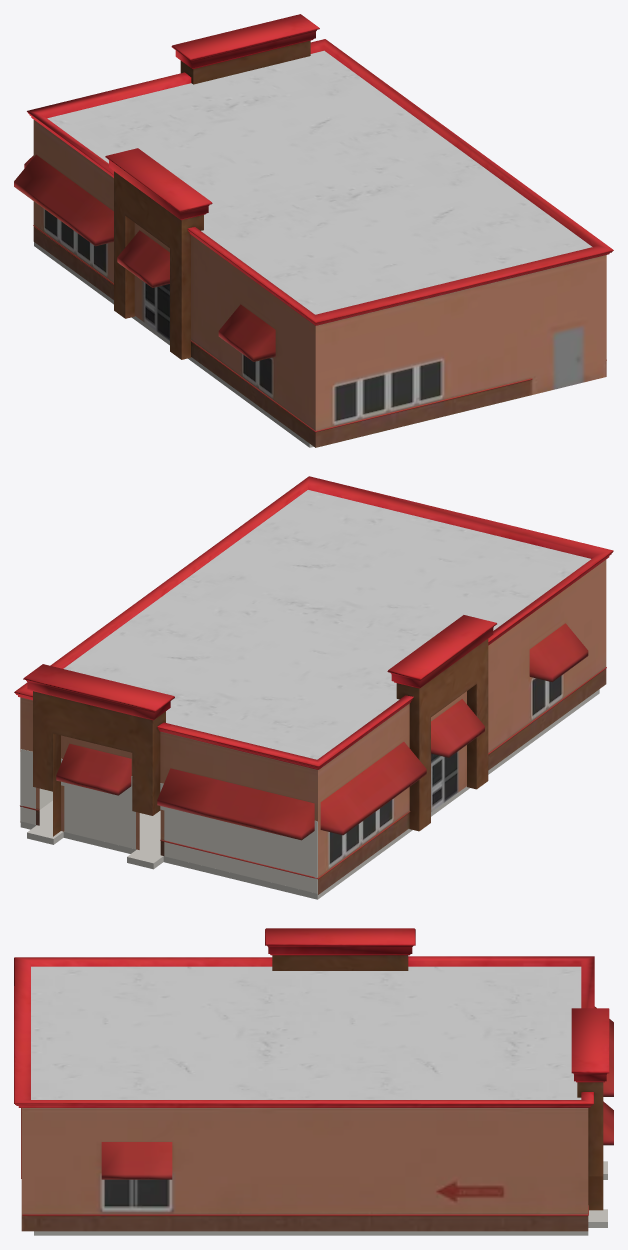
Rendered from burger-joint.zfix-v3.lod0.glb.
3 views of the same model, one above another, from view 1: azimuth 30°, elevation 25°; view 2: azimuth 150°, elevation 25°; view 3: azimuth 270°, elevation 25° (orthographic). The views are drawn at different scales.
Parts seen in each view (by area): view 1: Object_2, Walkable floors and stairs; view 2: Object_2, Walkable floors and stairs (×2); view 3: Object_2, Walkable floors and stairs.
Boxes of the visible parts, box(x1,y1,x2,y2) form: Object_2: box(14, 14, 613, 447); Walkable floors and stairs: box(34, 242, 313, 447); Object_2: box(14, 476, 613, 894); Walkable floors and stairs (×2): box(20, 689, 599, 899); Object_2: box(14, 928, 613, 1231); Walkable floors and stairs: box(34, 1161, 607, 1235).
Size of the model in its own units: 18.01 by 8.06 by 27.76.
Materials: 4 (1 with a texture image).
